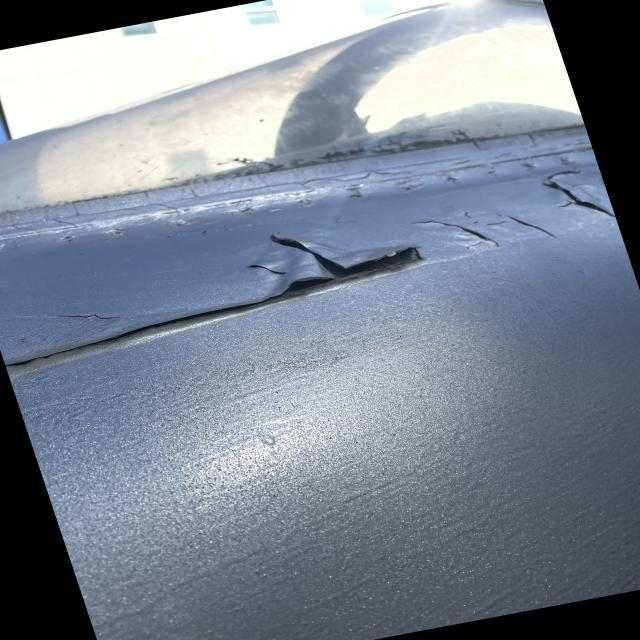crack: (423, 218, 571, 249), (42, 308, 128, 323), (251, 263, 296, 279)
